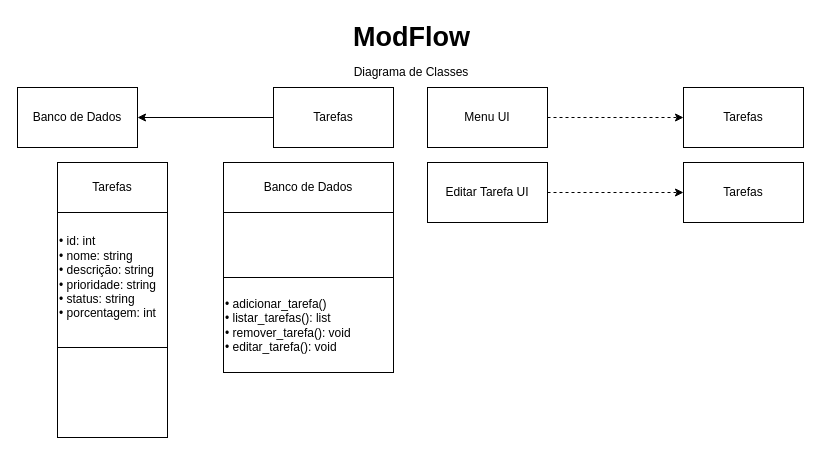
Some shapes in this 821 by 455 pixel diagram are drawn without their labels. The centre of each missing label's shape, as x and y in pixels:
"• adicionar() • editar() • remover() • listar()" belongs at pixel 112 392.
"• conn: sqlite3.Connection • cursor: sqlite3.Cursor" belongs at pixel 308 245.
